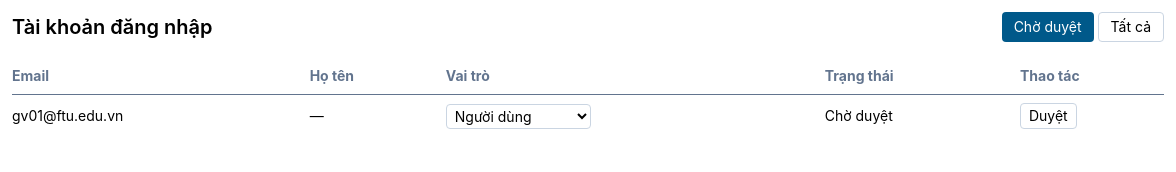
Scenario: AdminUsersPage › lists pending users and approves one (Super Admin)
Expected: the text "gv01@ftu.edu.vn" is shown, [12,94,310,137]
Click the button with aria-label "Duyệt gv01@ftu.edu.vn" at [1048, 116], box [1020,103,1077,129]
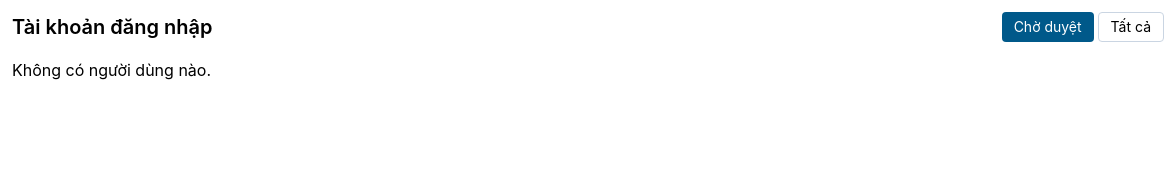
Expected: the text "Không có người dùng nào." is shown, [12,60,211,80]
